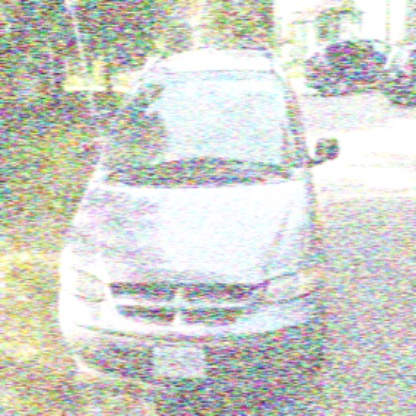Vehicle: (58, 43, 340, 404)
